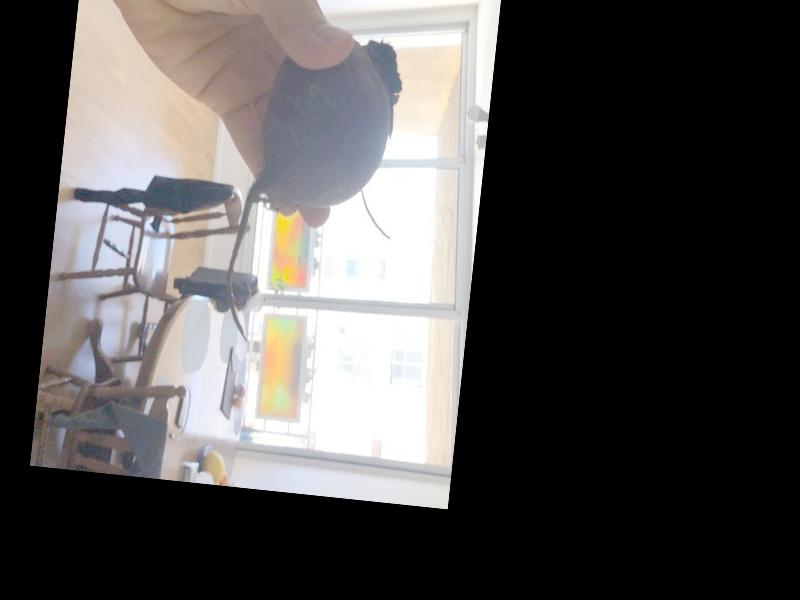Beet: (221, 28, 408, 355)
